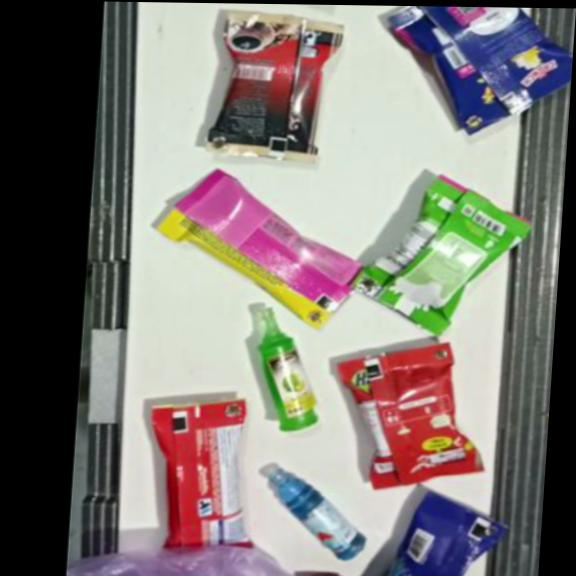Plastik: (147, 168, 373, 332), (346, 173, 534, 337), (377, 6, 576, 138), (329, 340, 491, 490), (200, 11, 344, 161), (140, 398, 264, 552), (384, 490, 510, 576), (262, 467, 370, 561), (252, 307, 325, 434), (66, 546, 298, 576)
